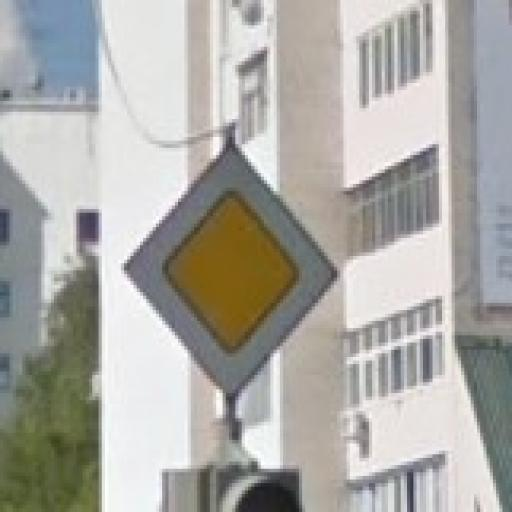traffic_sign: (122, 142, 338, 401)
